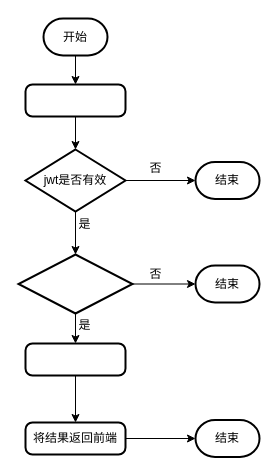
The diagram is 277 pixels wide and 475 high, and some of its shapes have lost their labels. Each missing label, with the centre of its shape:
"将新密码加密后写入数据库" goes at point (75, 359).
"旧密码是否正确" goes at point (75, 283).
"用户请求修改密码" goes at point (75, 100).
